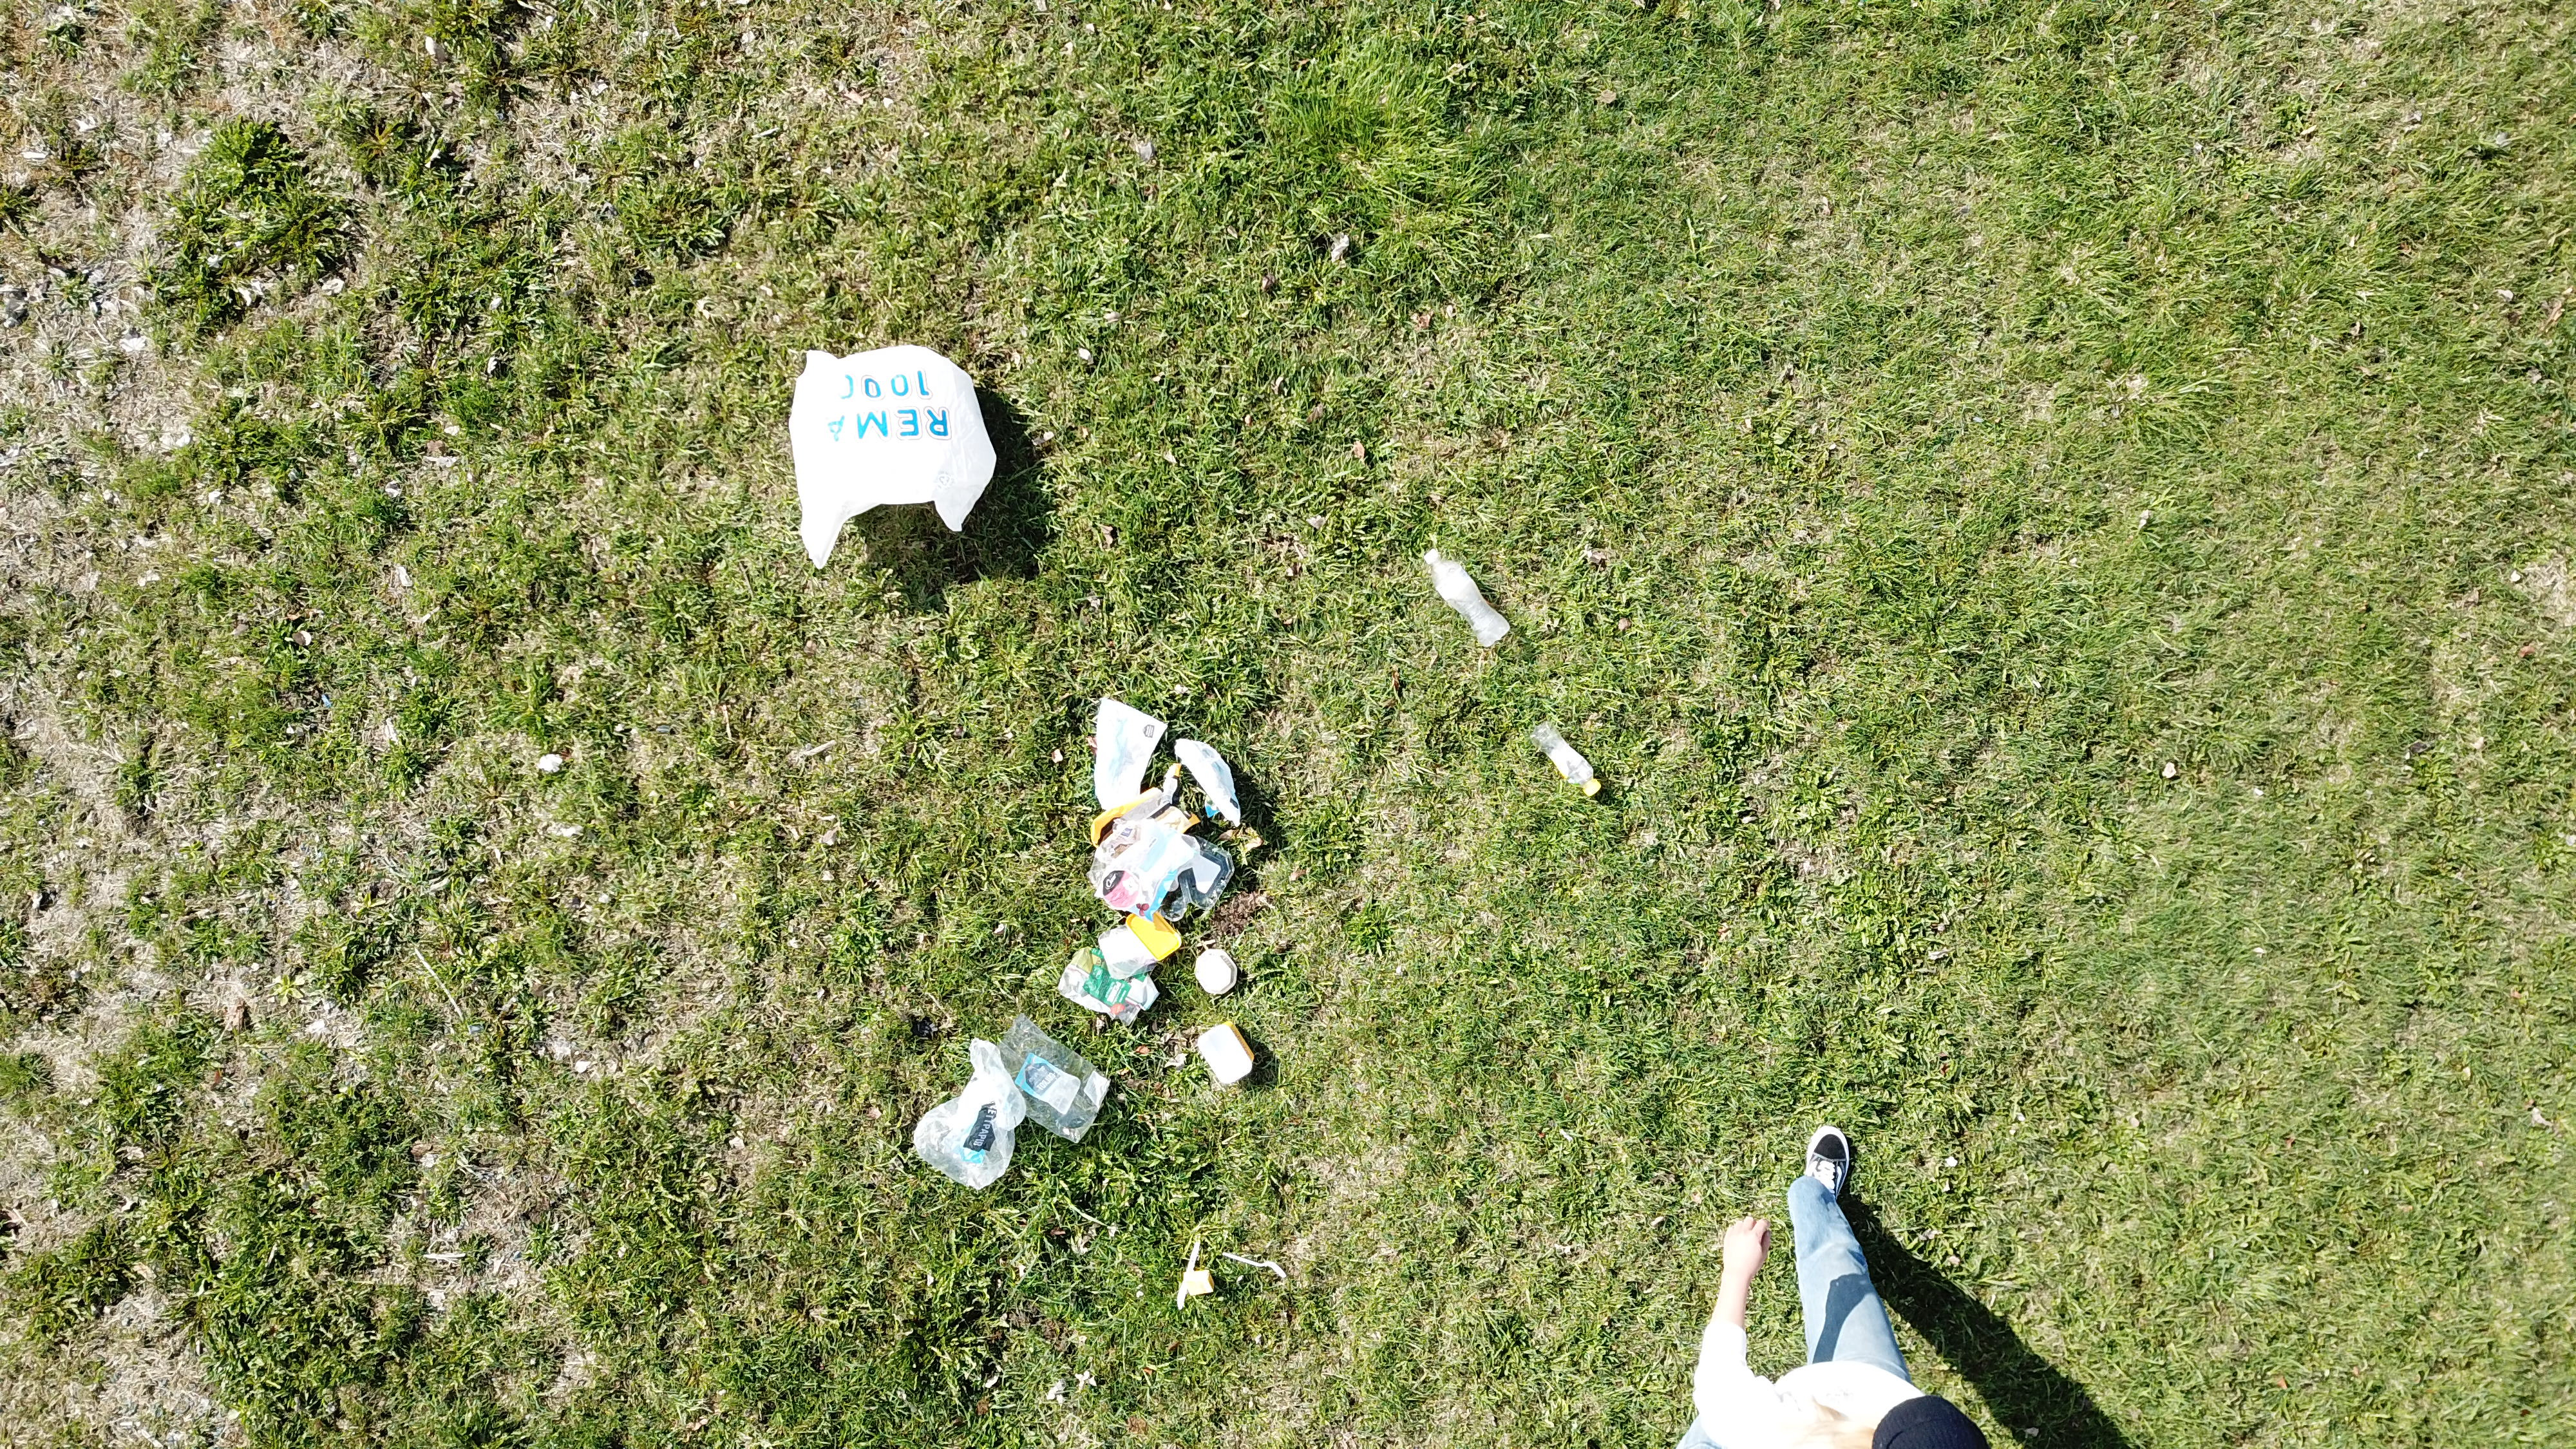Plastic: (789, 338, 1000, 563), (915, 1039, 1028, 1189), (996, 1016, 1108, 1143), (1093, 699, 1168, 810), (1056, 947, 1162, 1023), (1088, 787, 1200, 851), (1166, 830, 1237, 924), (1100, 824, 1168, 922), (1175, 738, 1244, 826), (1198, 1021, 1254, 1083), (1099, 925, 1161, 980), (1127, 909, 1184, 961), (1196, 947, 1238, 996), (1223, 1251, 1288, 1277), (1178, 1240, 1201, 1311), (1182, 1272, 1219, 1297)
PlasticBottle: (1424, 547, 1513, 649), (1530, 722, 1601, 798)
